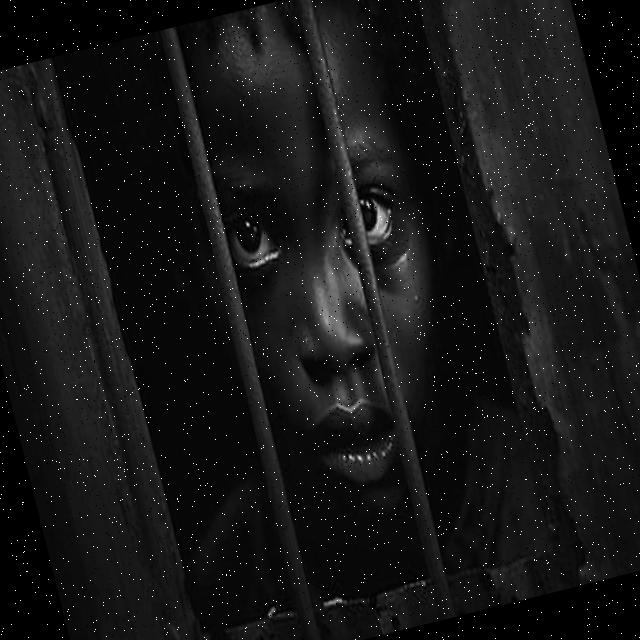Sadness: (143, 0, 491, 551)
